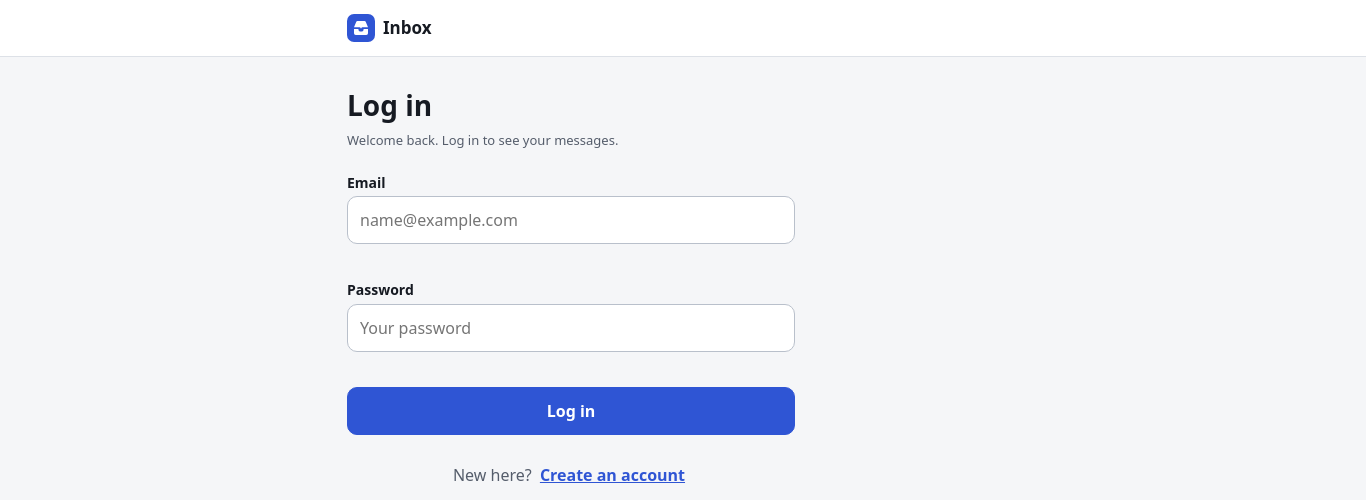
Test: authentication through the real API client › logs in with the httpOnly cookie and never stores a session secret in the browser
In the field labelled "Email": [571, 220] box [347,196,795,244], type "ada@example.com"
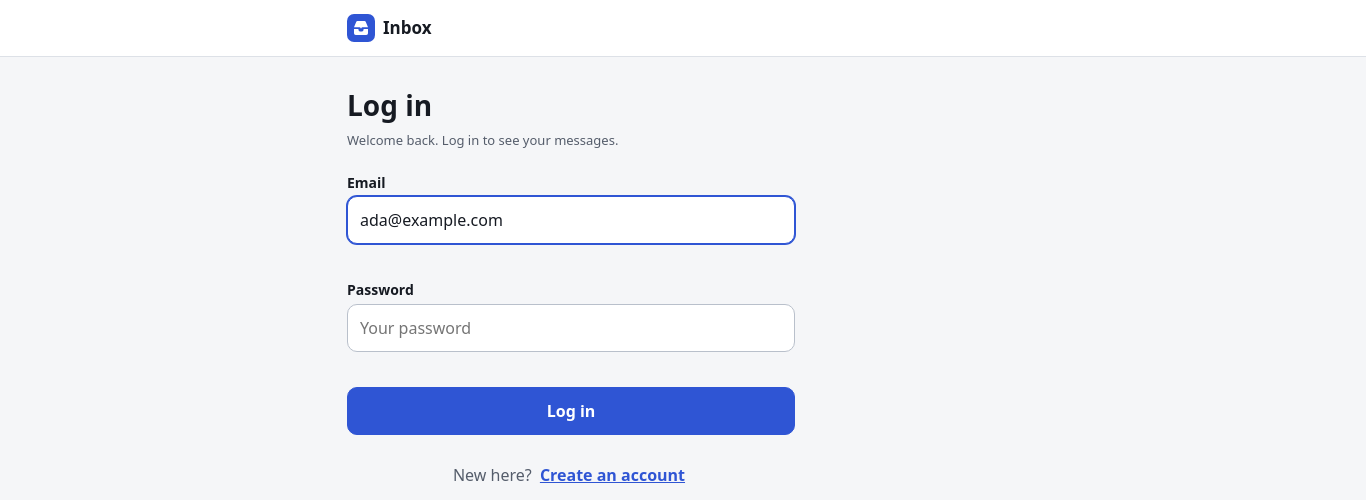
In the password field labelled "Password": [571, 328] box [347,304,795,352], type "correct horse"
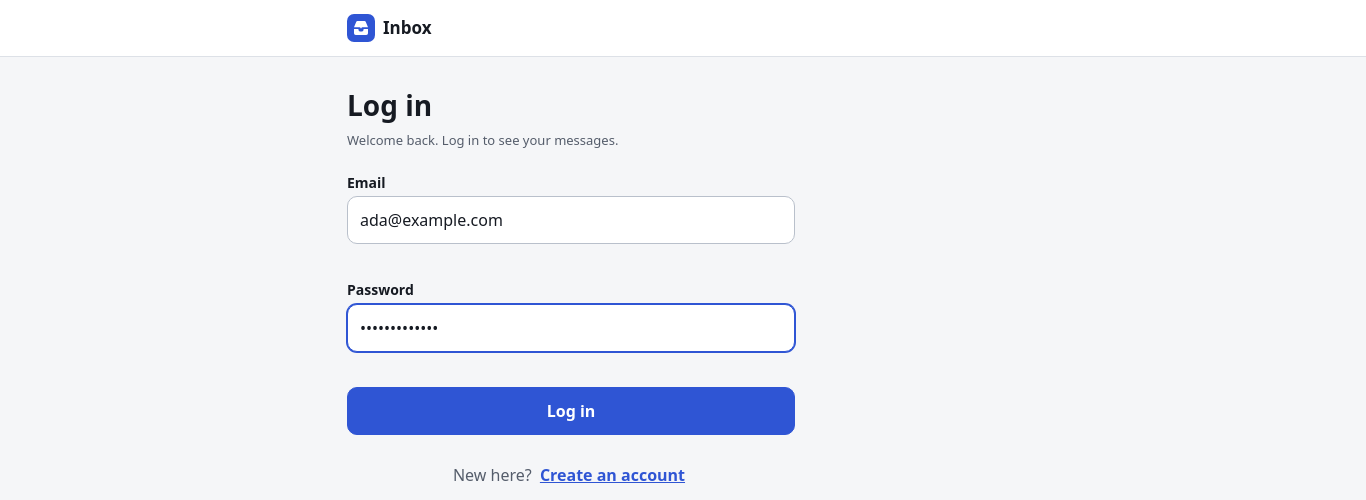
Click the button "Log in": [571, 411] box [347,387,795,435]
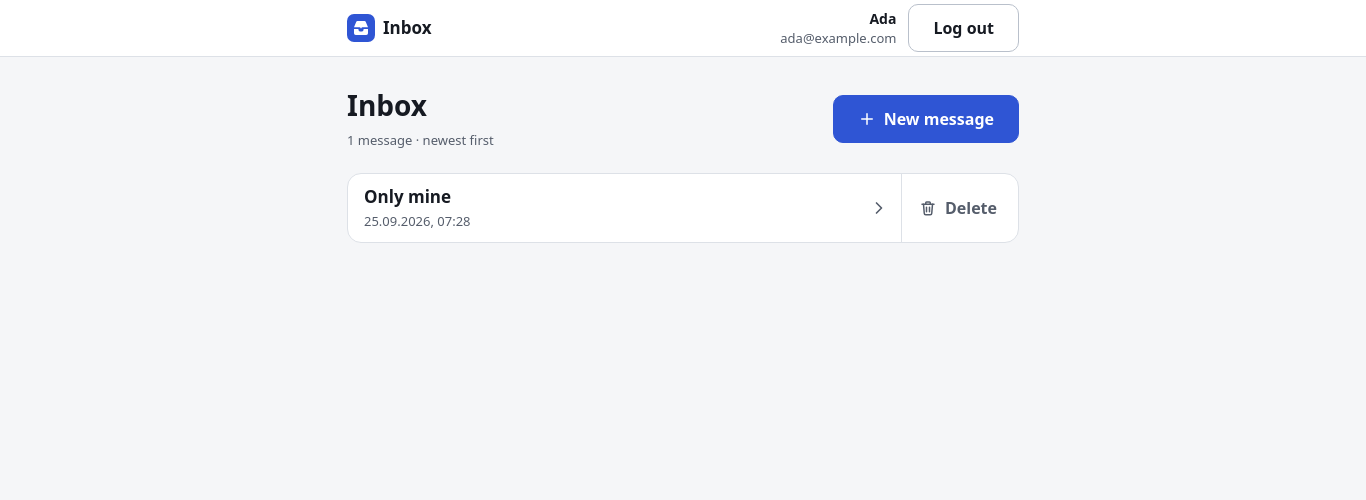
Now the link "Only mine 25.09.2026, 07:28" is shown, box [348,174,901,242]
